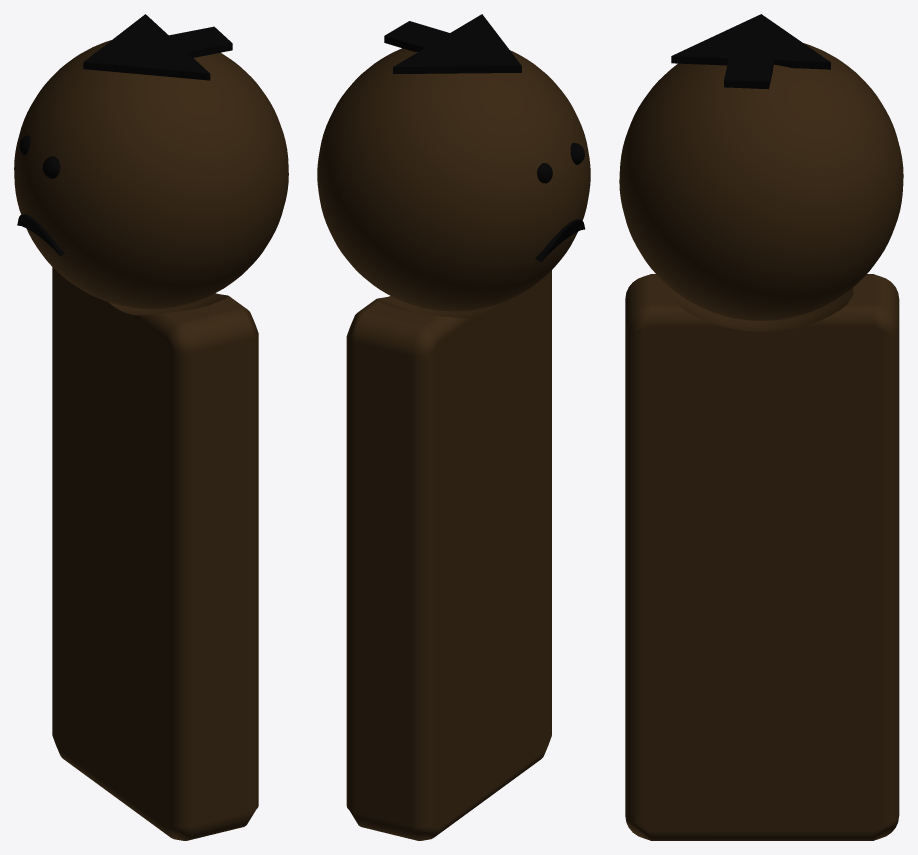
The model's file is brown_sad.obj.
The picture shows the model from 3 angles, left to right: view 1: azimuth 30°, elevation 25°; view 2: azimuth 150°, elevation 25°; view 3: azimuth 270°, elevation 25°; orthographic projection. The views are drawn at different scales.
Parts seen in each view (by area): view 1: 1_Curve.002_Curve.002, 5.002_Curve.002_Curve.003_5.002_Curve.002_Curve.001; view 2: 1_Curve.002_Curve.002, 5.002_Curve.002_Curve.003_5.002_Curve.002_Curve.001; view 3: 1_Curve.002_Curve.002, 5.002_Curve.002_Curve.003_5.002_Curve.002_Curve.001.
Part boxes in pixels (left/top/right/bottom): 1_Curve.002_Curve.002: left=14, top=40, right=288, bottom=840; 5.002_Curve.002_Curve.003_5.002_Curve.002_Curve.001: left=17, top=14, right=232, bottom=256; 1_Curve.002_Curve.002: left=317, top=48, right=590, bottom=840; 5.002_Curve.002_Curve.003_5.002_Curve.002_Curve.001: left=384, top=14, right=585, bottom=261; 1_Curve.002_Curve.002: left=619, top=43, right=903, bottom=840; 5.002_Curve.002_Curve.003_5.002_Curve.002_Curve.001: left=671, top=14, right=830, bottom=89.
Bounding box in the file's own units: 0.1677 × 0.4993 × 0.1661.
